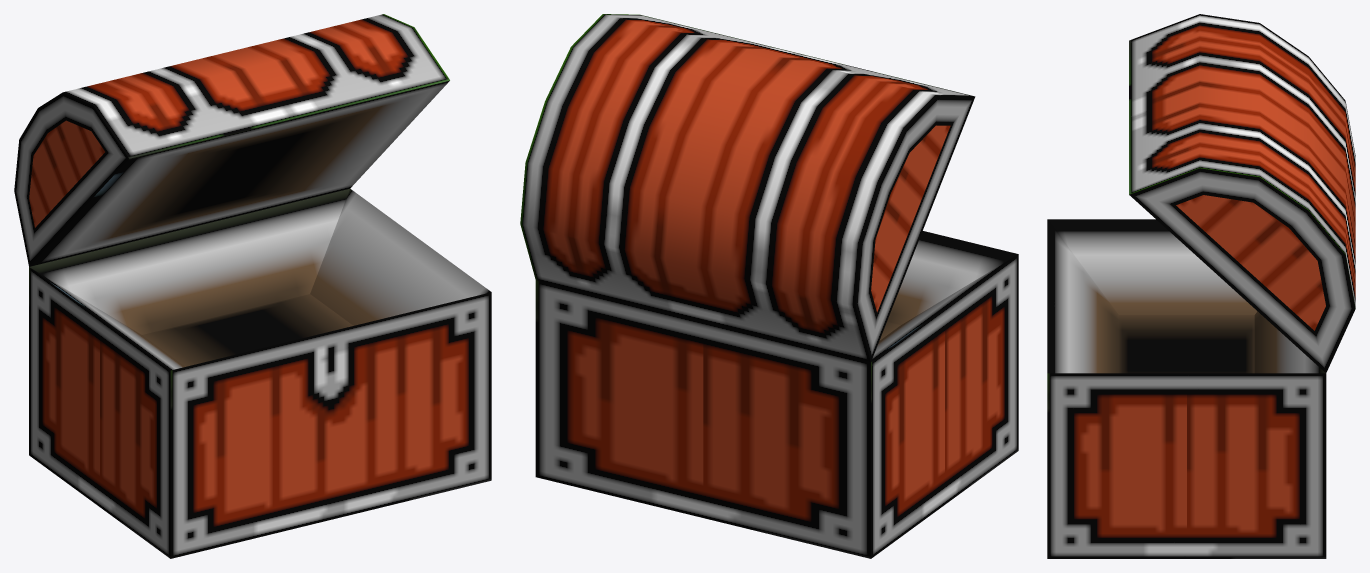
Rendered from deco_deco_chestBig_open.FBX.
3 renders of one model, left to right at view 1: azimuth 30°, elevation 25°; view 2: azimuth 150°, elevation 25°; view 3: azimuth 270°, elevation 25°, orthographic. The views are drawn at different scales.
Visible parts, largest first — view 1: deco_deco_chestBig_open; view 2: deco_deco_chestBig_open; view 3: deco_deco_chestBig_open.
Part boxes in pixels (x1=…): deco_deco_chestBig_open: x1=14, y1=14, x2=491, y2=558; deco_deco_chestBig_open: x1=520, y1=14, x2=1018, y2=558; deco_deco_chestBig_open: x1=1047, y1=14, x2=1355, y2=558.
Size of the model in its own units: 2.02 by 2.38 by 1.7.
Materials: 1 (1 with a texture image).
